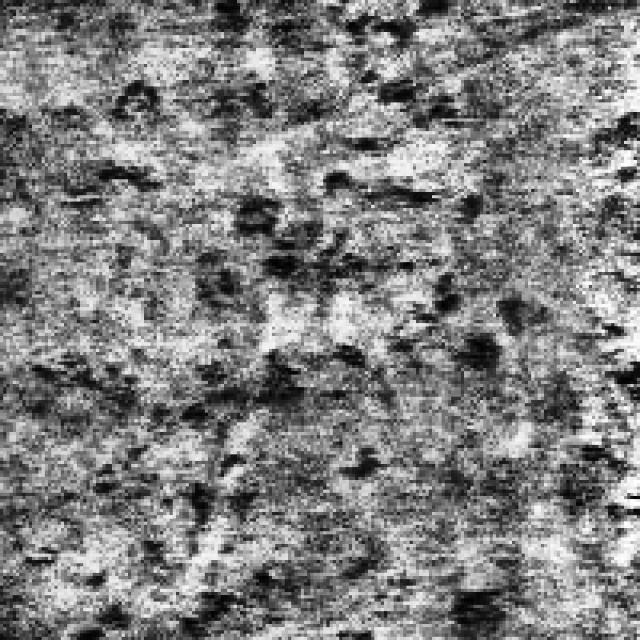Crazing: (22, 186, 454, 636)
